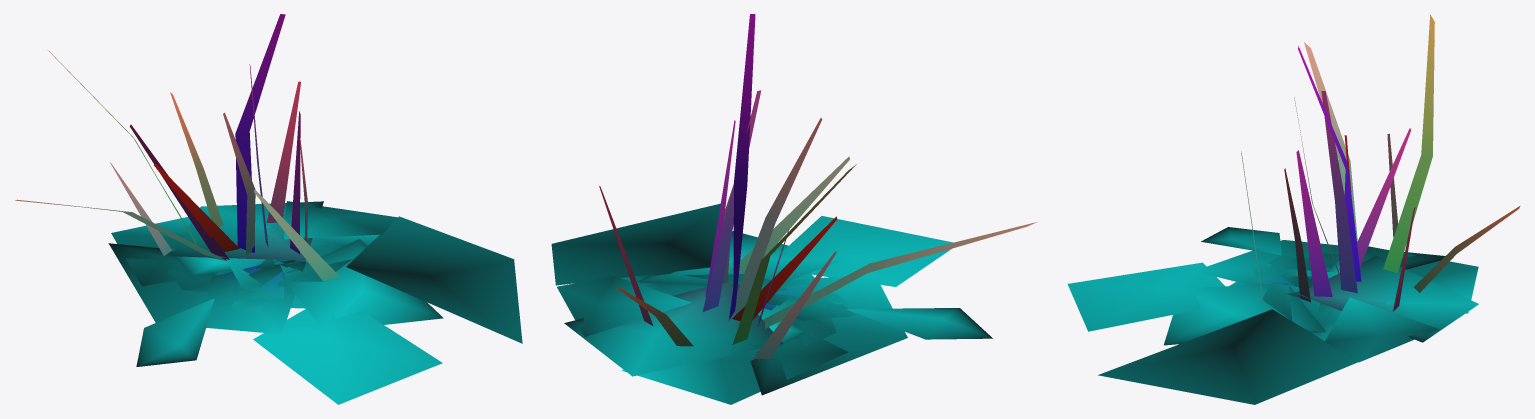
Rendered from Wild_Grass_vczndjqja_Low_vczndjqja_VarC_LOD1.fbx.
3 renders of one model, left to right at view 1: azimuth 30°, elevation 25°; view 2: azimuth 150°, elevation 25°; view 3: azimuth 270°, elevation 25°, orthographic. The views are drawn at different scales.
Parts seen in each view (by area): view 1: _ori4_VarC_LOD3; view 2: _ori4_VarC_LOD3; view 3: _ori4_VarC_LOD3.
Part boxes in pixels (x1=…): _ori4_VarC_LOD3: x1=15, y1=14, x2=522, y2=404; _ori4_VarC_LOD3: x1=551, y1=14, x2=1036, y2=404; _ori4_VarC_LOD3: x1=1067, y1=14, x2=1520, y2=404.
Bounding box in the file's own units: 55.01 × 31.66 × 48.47.
